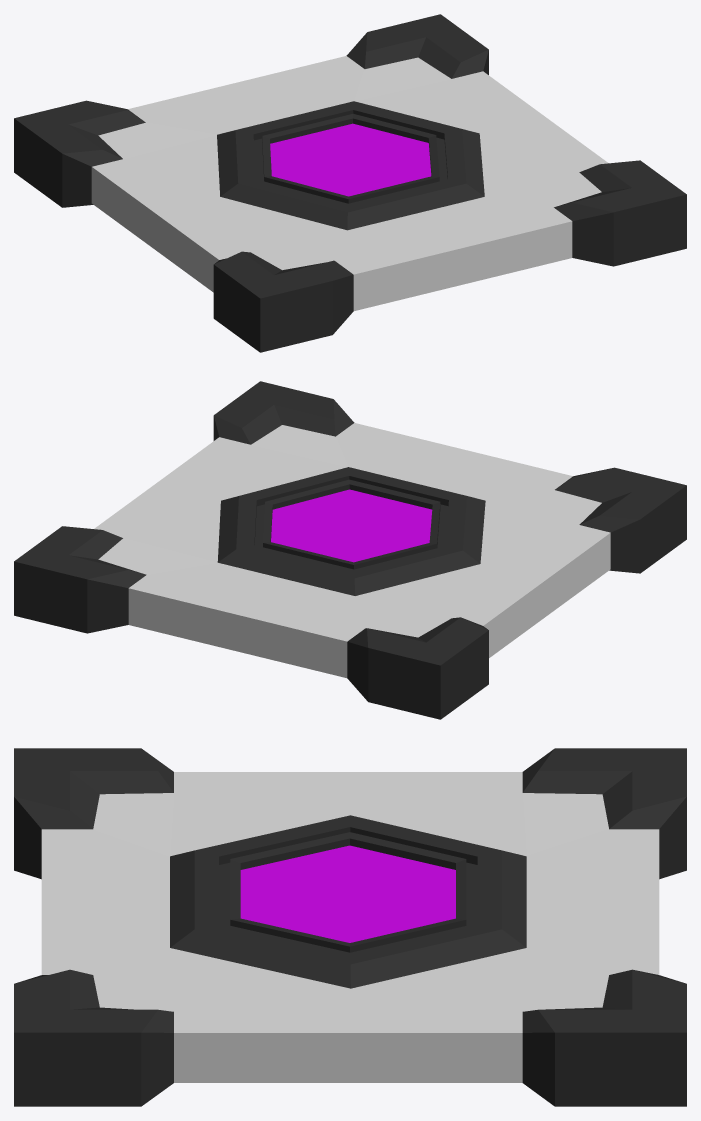
Rendered from Base trap.fbx.
3 renders of one model, top to bottom at view 1: azimuth 30°, elevation 25°; view 2: azimuth 150°, elevation 25°; view 3: azimuth 270°, elevation 25°, orthographic. The views are drawn at different scales.
Visible parts, largest first — view 1: pCube1; view 2: pCube1; view 3: pCube1.
Part boxes in pixels (bbox=[...]): pCube1: bbox=[14, 14, 686, 352]; pCube1: bbox=[14, 381, 686, 719]; pCube1: bbox=[14, 748, 686, 1106].
Bounding box in the file's own units: 2.18 × 0.2676 × 2.18.
